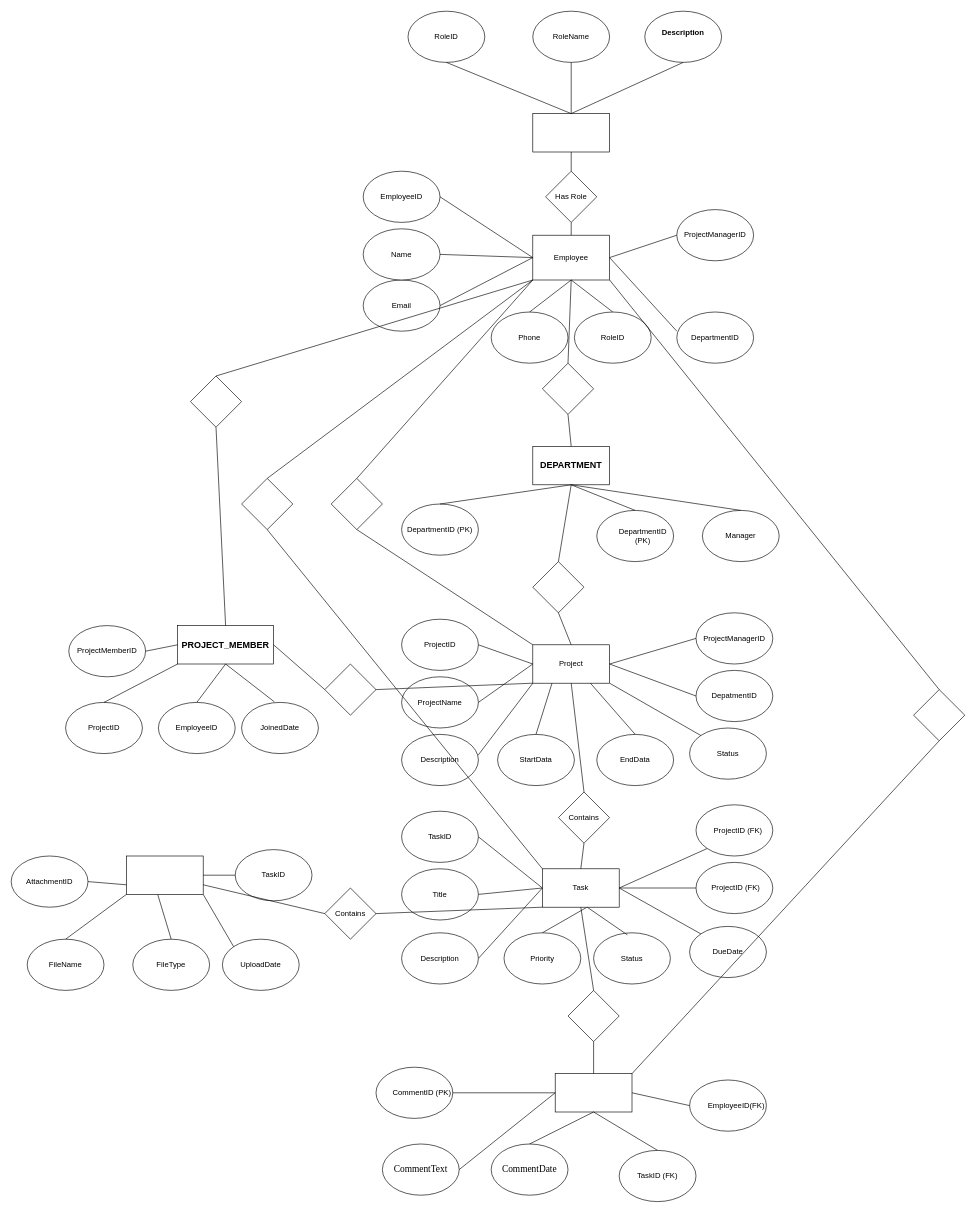
Image size: 976x1213. Some labels were removed from this diagram. Here are the shapes that lost their labels. From the top down, the box of each, then its label:
(532, 113, 610, 152): ROLE
(190, 375, 242, 427): Participates
(542, 363, 594, 414): Works In
(241, 478, 293, 530): Assigned To
(331, 478, 382, 530): Manages
(532, 561, 584, 613): Owns
(324, 663, 376, 715): Includes
(913, 689, 965, 741): Writes
(126, 855, 203, 894): Attachment
(567, 990, 619, 1042): Has
(555, 1073, 632, 1112): Comment
